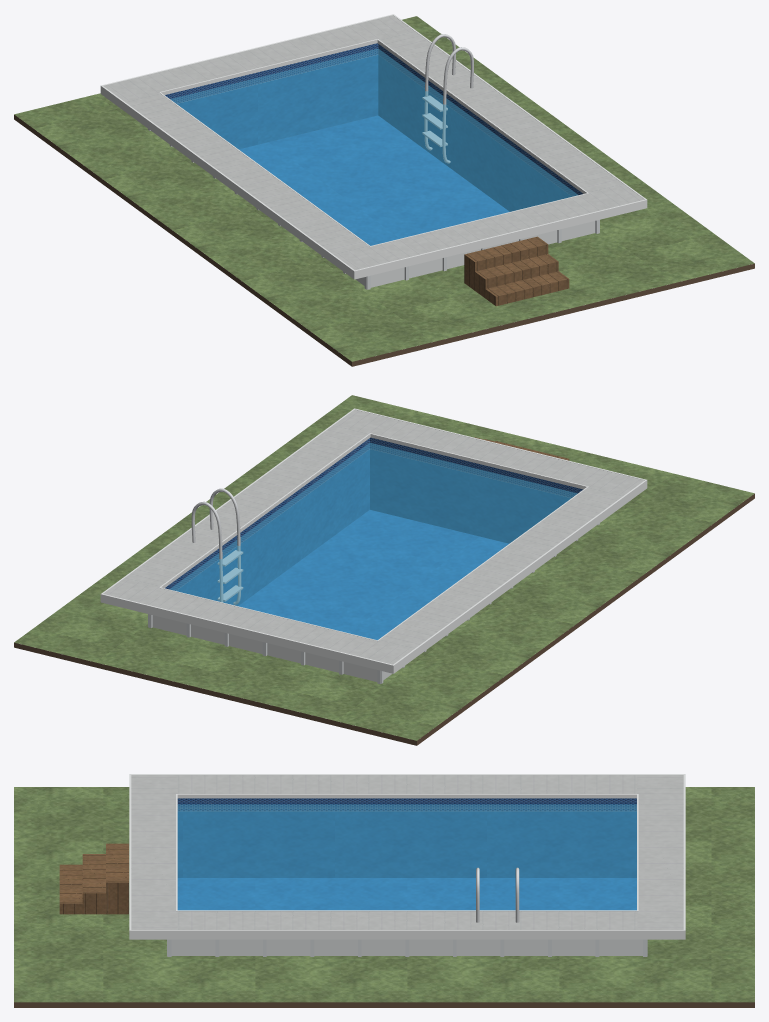
Rendered from kayak-pool-12x20-white-walk-rec-nofence.1df2d10bad.glb.
The picture shows the model from 3 angles, top to bottom: view 1: azimuth 30°, elevation 25°; view 2: azimuth 150°, elevation 25°; view 3: azimuth 270°, elevation 25°; orthographic projection. The views are drawn at different scales.
Visible parts, largest first — view 1: ground, water, deck, liner_wall, liner_floor, fascia, steps, soil, wall, steel; view 2: ground, water, deck, liner_wall, liner_floor, fascia, soil, wall, steel; view 3: ground, water, liner_wall, deck, liner_floor, fascia, wall, soil, steps, upright, steel.
Boxes of the visible parts, <box> form: ground: <box>14,16,754,361</box>; water: <box>170,48,577,245</box>; deck: <box>103,15,644,270</box>; liner_wall: <box>165,43,582,211</box>; liner_floor: <box>239,115,509,245</box>; fascia: <box>100,14,647,279</box>; steps: <box>464,236,569,306</box>; soil: <box>14,114,754,366</box>; wall: <box>356,221,595,287</box>; steel: <box>422,34,473,163</box>; ground: <box>14,395,754,740</box>; water: <box>169,443,577,639</box>; deck: <box>103,409,644,664</box>; liner_wall: <box>165,437,583,605</box>; liner_floor: <box>239,510,508,639</box>; fascia: <box>100,408,647,673</box>; soil: <box>14,493,754,745</box>; wall: <box>152,615,392,681</box>; steel: <box>191,488,243,604</box>; ground: <box>14,787,754,1002</box>; water: <box>177,804,636,910</box>; liner_wall: <box>177,798,636,877</box>; deck: <box>131,775,683,929</box>; liner_floor: <box>177,878,636,910</box>; fascia: <box>129,774,685,939</box>; wall: <box>171,939,642,955</box>; soil: <box>14,1002,754,1007</box>; steps: <box>59,843,128,914</box>; upright: <box>167,939,647,956</box>; steel: <box>476,867,519,922</box>.
Bounding box in the file's own units: 6.71 × 1.9 × 9.75.
Materials: 12 (5 with a texture image).
